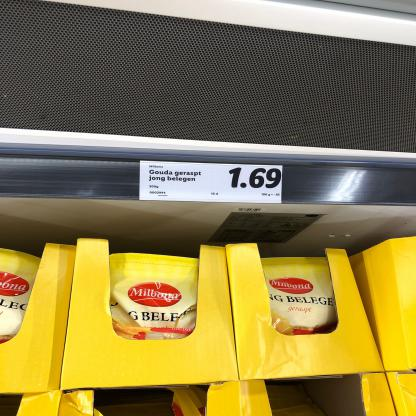prtg: (141, 162, 284, 205)
